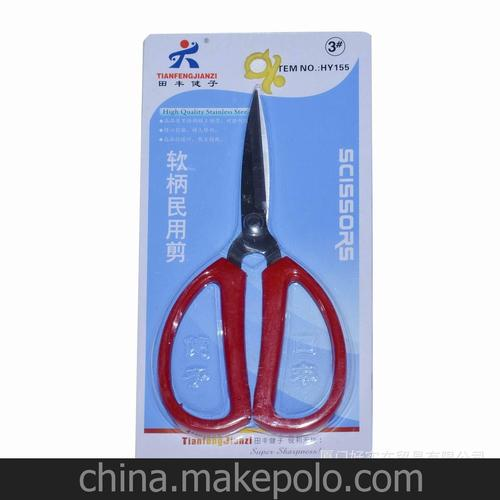scissor: (157, 90, 345, 439)
